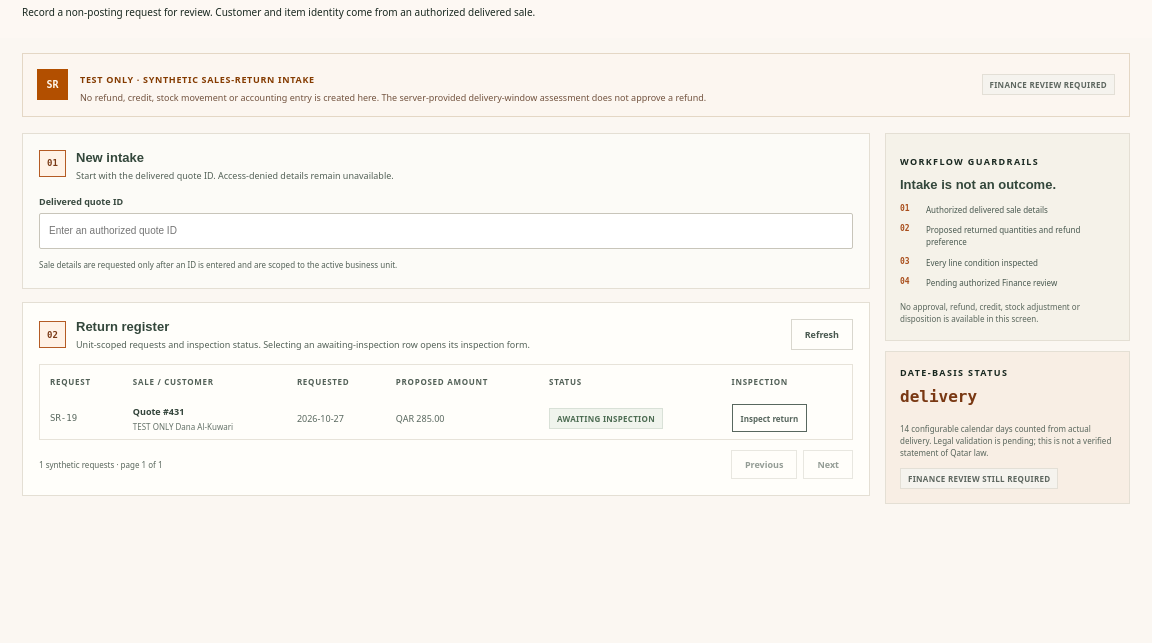
Test: inspection requires each returned line and a not-good finding sends no disposition; result waits for Finance
Click the button "Inspect return": [769, 418] box [732,404,807,432]
(page scrolled)
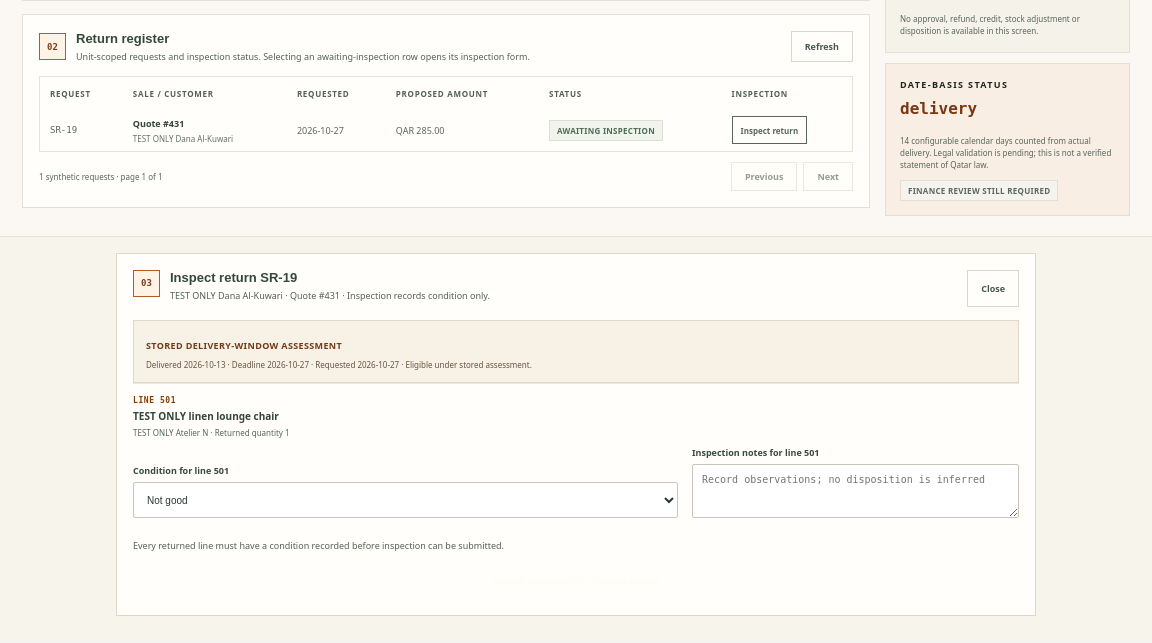
expect the dropdown named "Condition for line 501" is shown: met
Select "Not good" in the dropdown named "Condition for line 501": [406, 500] box [133,482,678,518]
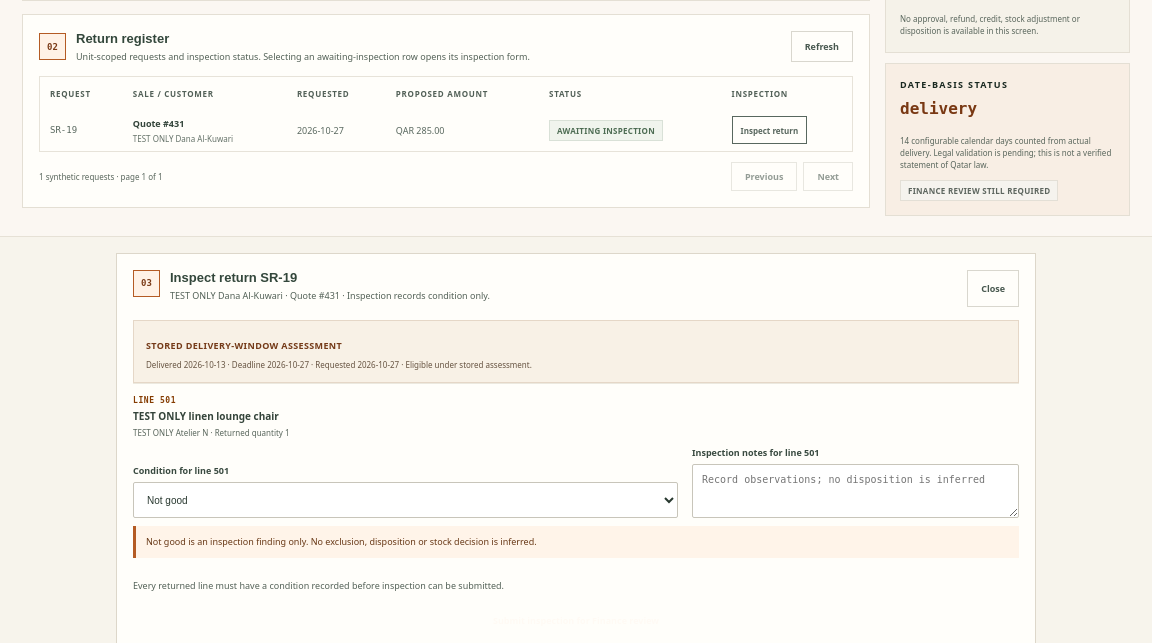
expect the form that starts with "LINE" is shown: met
expect the text "No exclusion, disposition or stock decision is inferred" is shown: met, box [146,535,537,548]
Submit the form that starts with "LINE", box [133,383,1019,638]
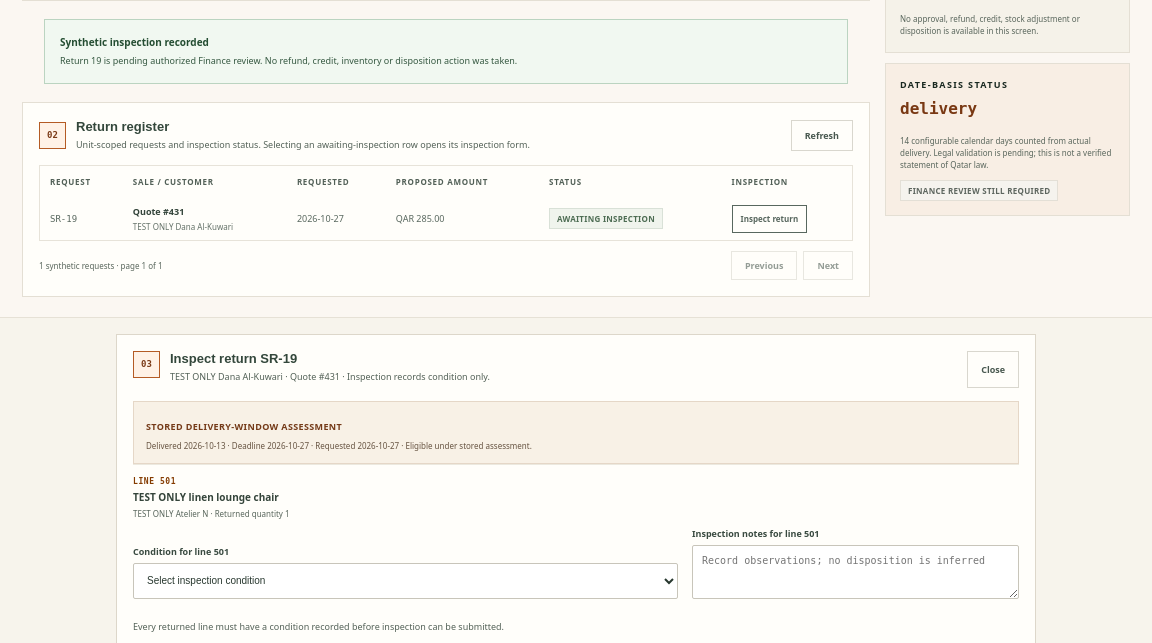
expect the text "pending authorized Finance review" is shown: met, box [60,54,517,67]
expect the text "No refund, credit, inventory or disposition action was taken" is shown: met, box [60,54,517,67]
